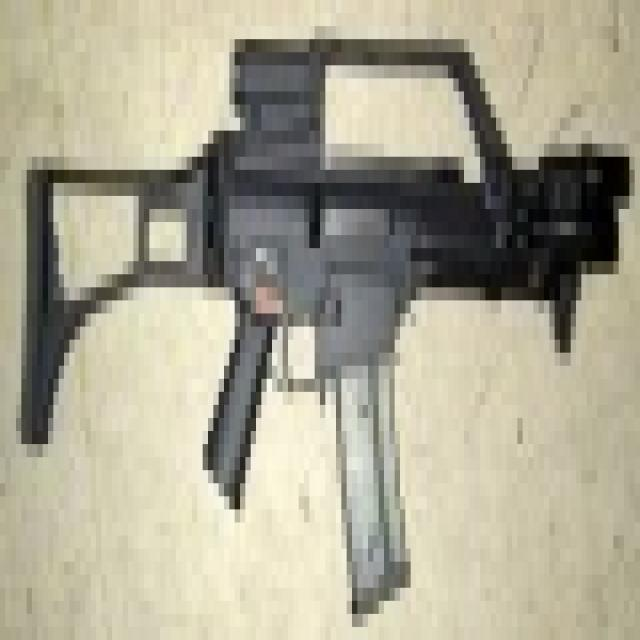Gun: (24, 36, 628, 536)
